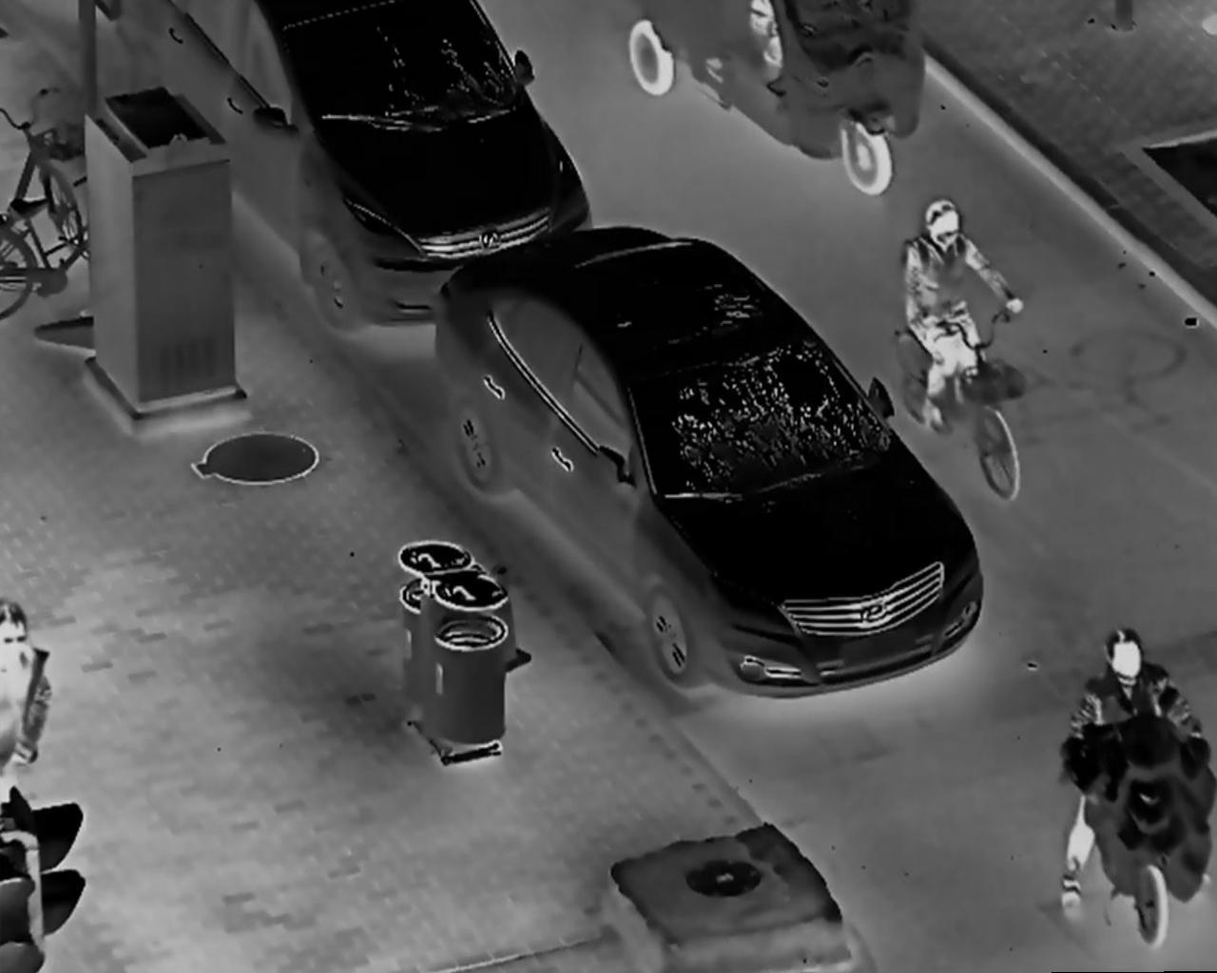person: (1059, 625, 1217, 925), (901, 196, 1026, 439)
